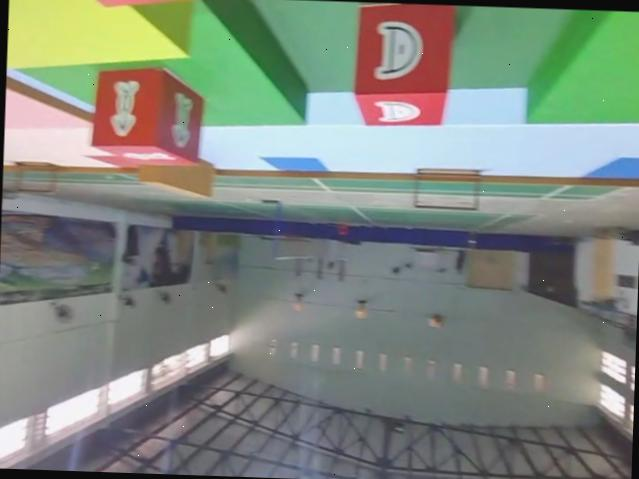R2 Real: (352, 2, 452, 132), (90, 63, 204, 164)
